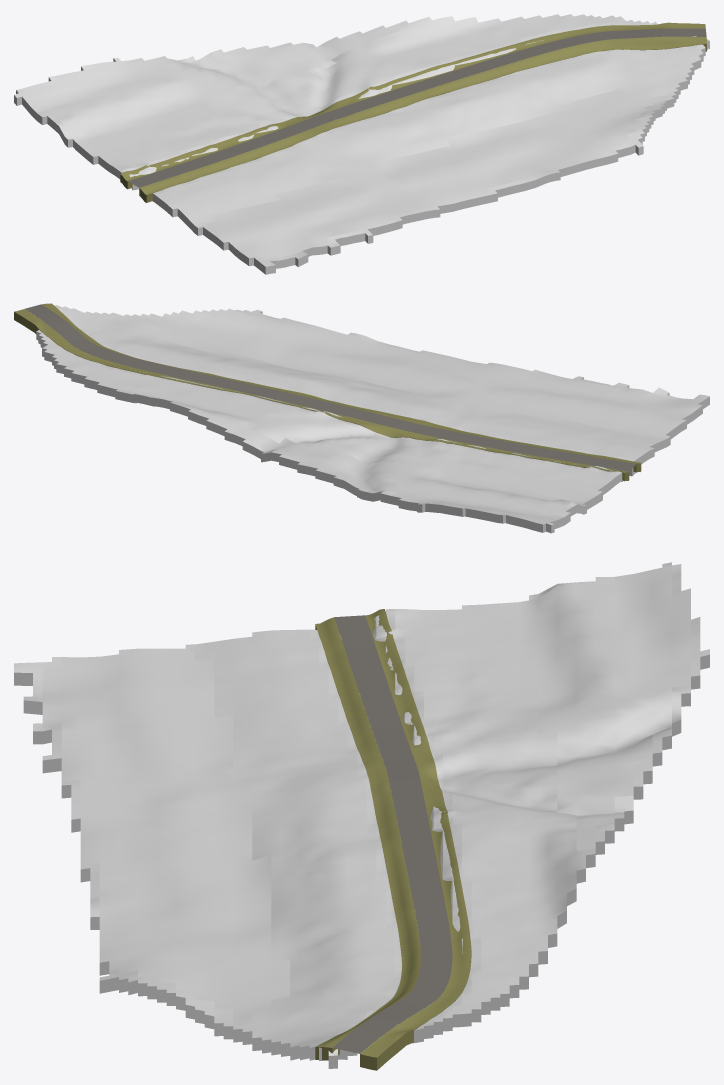
File: conz_98.glb
The picture shows the model from 3 angles, top to bottom: view 1: azimuth 30°, elevation 25°; view 2: azimuth 150°, elevation 25°; view 3: azimuth 270°, elevation 25°; orthographic projection. The views are drawn at different scales.
Visible parts, largest first — view 1: terrain98, verge98L, road98, verge98R; view 2: terrain98, road98, verge98R, verge98L; view 3: terrain98, road98, verge98R, verge98L.
Part boxes in pixels (x1,y1,x2,y2): terrain98: (14, 14, 709, 274); verge98L: (139, 36, 706, 202); road98: (128, 28, 706, 187); verge98R: (120, 22, 705, 189); terrain98: (36, 305, 709, 533); road98: (25, 304, 636, 471); verge98R: (14, 309, 629, 481); verge98L: (42, 303, 641, 472); terrain98: (14, 562, 709, 1068); road98: (332, 615, 452, 1053); verge98R: (360, 609, 471, 1070); verge98L: (315, 617, 420, 1060).
Size of the model in its own units: 238 by 19.67 by 146.
